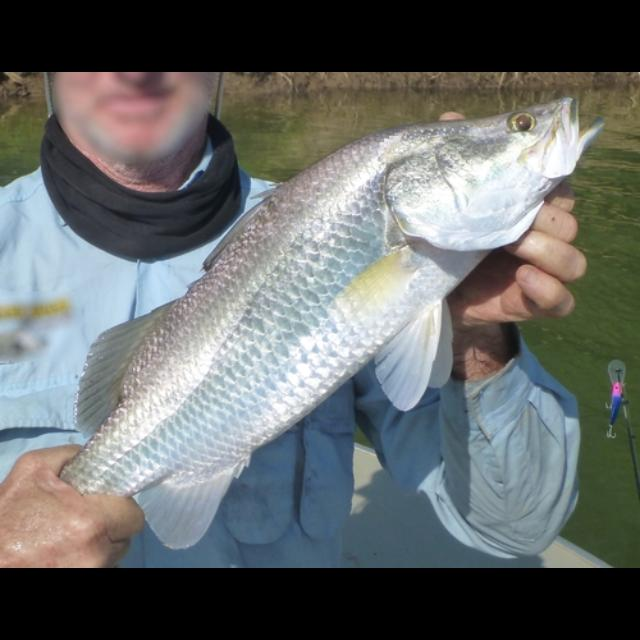Seabass: (55, 91, 609, 549)
